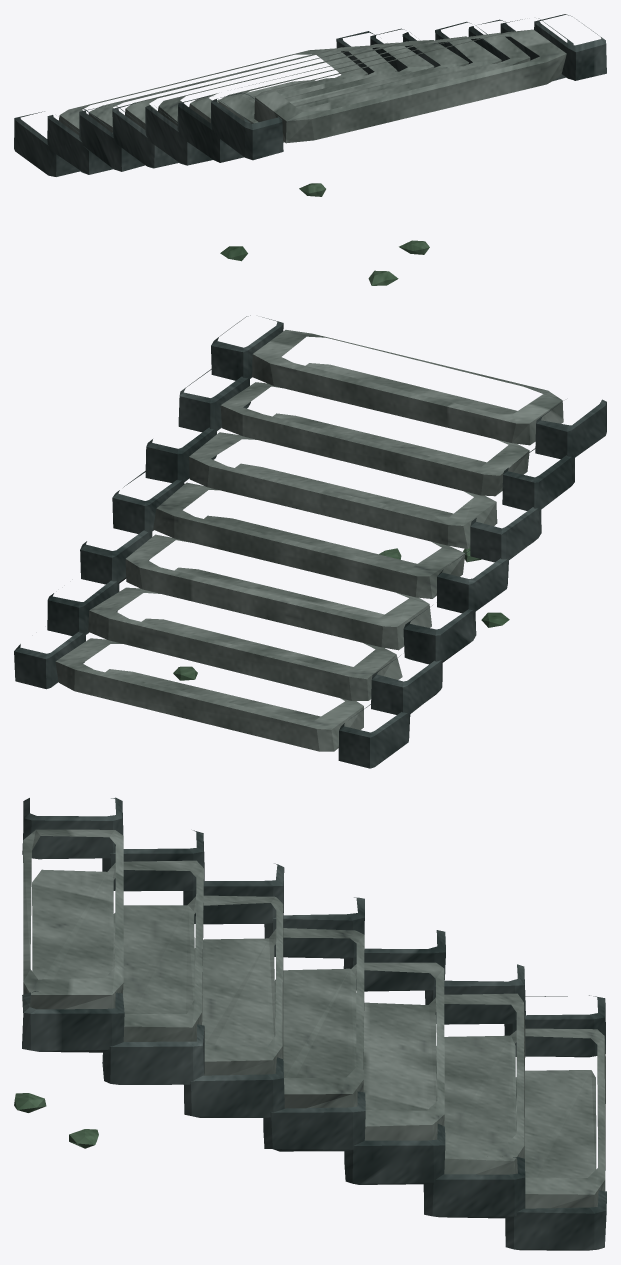
File: 0352_stairs_02.glb
3 views of the same model, one above another, from view 1: azimuth 30°, elevation 25°; view 2: azimuth 150°, elevation 25°; view 3: azimuth 270°, elevation 25° (orthographic). The views are drawn at different scales.
Parts seen in each view (by area): view 1: stone, stone_dark, moss; view 2: stone, stone_dark, moss; view 3: stone, stone_dark, moss.
Part boxes in pixels (x1,y1,x2,y2): stone: (58,29,566,143); stone_dark: (14,14,606,176); moss: (220,183,429,285); stone: (55,330,563,751); stone_dark: (14,315,606,768); moss: (173,547,509,680); stone: (23,829,605,1208); stone_dark: (22,797,606,1250); moss: (14,1093,98,1148).
Size of the model in its own units: 2.79 by 1.47 by 3.25.
3 materials, 3 textured.
